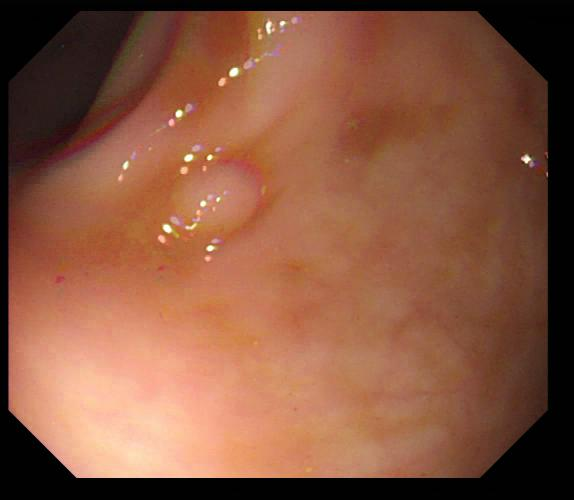polyp: (157, 160, 265, 251)
